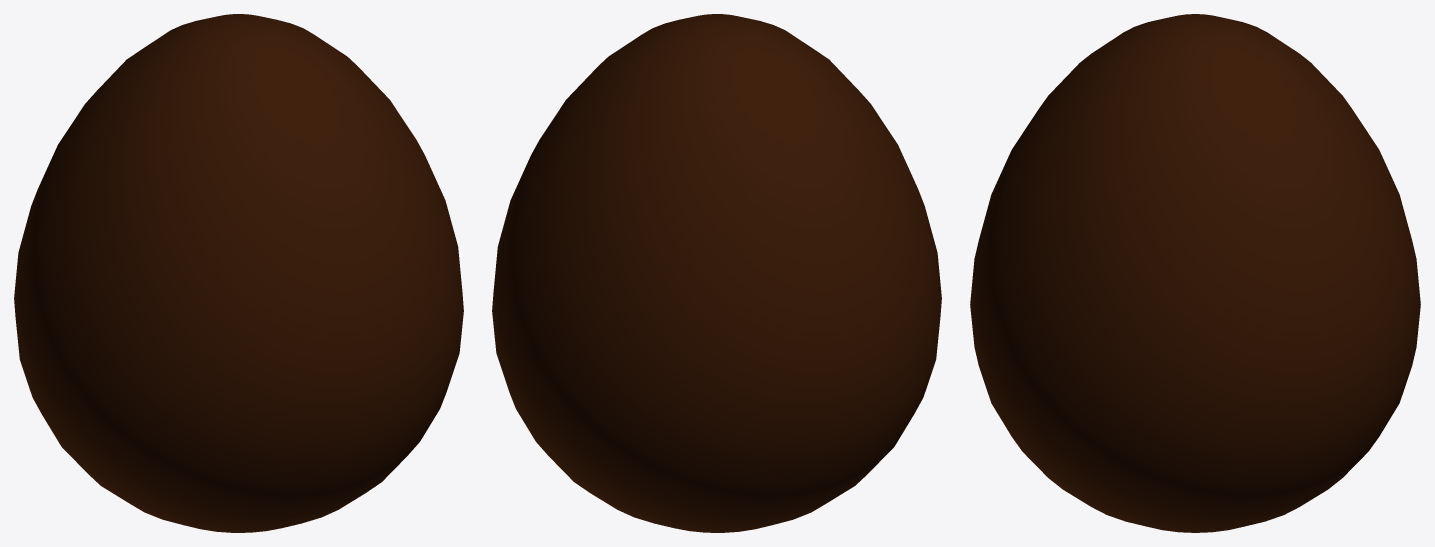
Rendered from uploads_files_2908703_Coconut.fbx.
The picture shows the model from 3 angles, left to right: view 1: azimuth 30°, elevation 25°; view 2: azimuth 150°, elevation 25°; view 3: azimuth 270°, elevation 25°; orthographic projection.
Visible parts, largest first — view 1: Sphere; view 2: Sphere; view 3: Sphere.
Boxes of the visible parts, x1,y1,x2,y2 form: Sphere: (14, 14, 463, 532); Sphere: (492, 14, 941, 532); Sphere: (970, 14, 1420, 532).
Size of the model in its own units: 200 by 238 by 200.
